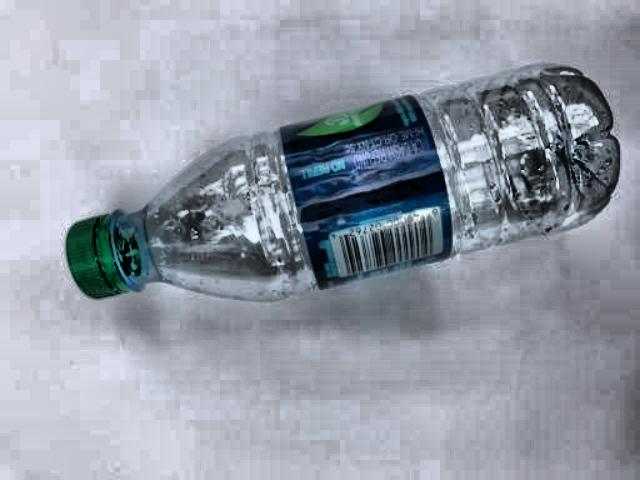Bottles: (26, 55, 640, 322)
